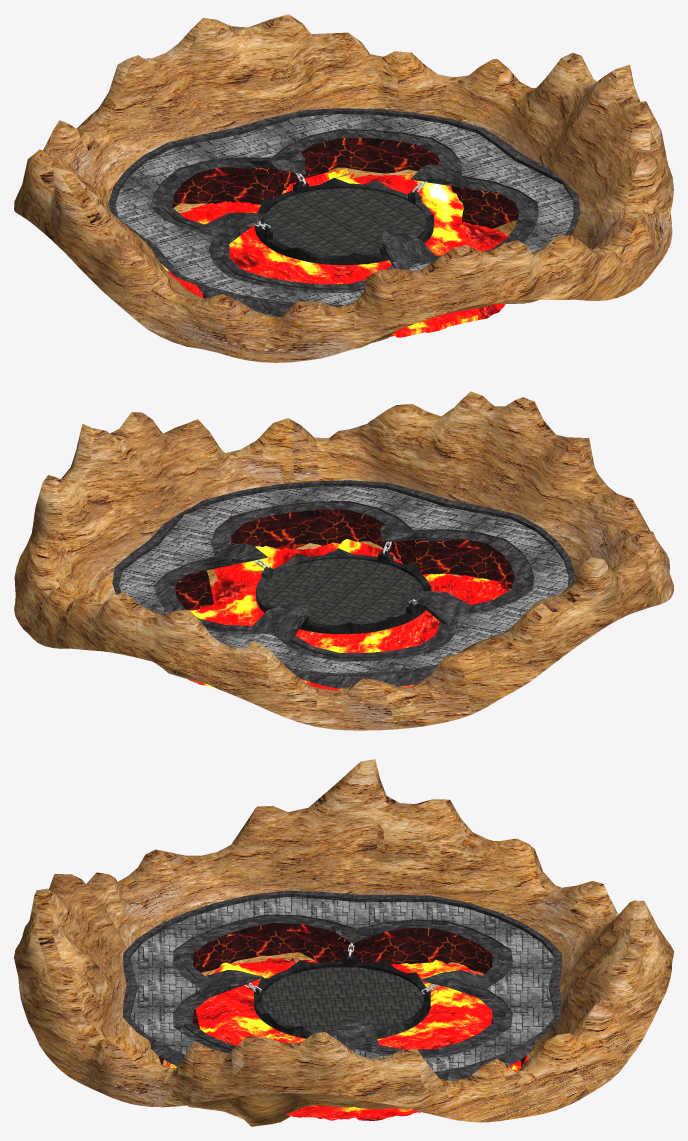
File: hell_arena1.glb
The picture shows the model from 3 angles, top to bottom: view 1: azimuth 30°, elevation 25°; view 2: azimuth 150°, elevation 25°; view 3: azimuth 270°, elevation 25°; orthographic projection. The views are drawn at different scales.
Parts seen in each view (by area): view 1: Cylinder_10, Circle_2, Circle.002_9, Circle.003_11, Circle.001_3; view 2: Cylinder_10, Circle_2, Circle.002_9, Circle.003_11, Circle.001_3; view 3: Cylinder_10, Circle_2, Circle.002_9, Circle.003_11, Circle.001_3.
Boxes of the visible parts, x1,y1,x2,y2 form: Cylinder_10: [14, 14, 673, 362]; Circle_2: [108, 108, 580, 317]; Circle.002_9: [160, 169, 508, 337]; Circle.003_11: [263, 188, 426, 255]; Circle.001_3: [254, 177, 433, 265]; Cylinder_10: [14, 391, 673, 730]; Circle_2: [112, 480, 574, 688]; Circle.002_9: [188, 539, 509, 690]; Circle.003_11: [263, 558, 421, 625]; Circle.001_3: [256, 548, 431, 633]; Cylinder_10: [14, 759, 673, 1126]; Circle_2: [122, 890, 561, 1081]; Circle.002_9: [166, 957, 529, 1120]; Circle.003_11: [262, 967, 423, 1032]; Circle.001_3: [254, 953, 430, 1038].
Bounding box in the file's own units: 18.37 × 5.05 × 18.57.
8 materials, 7 textured.
